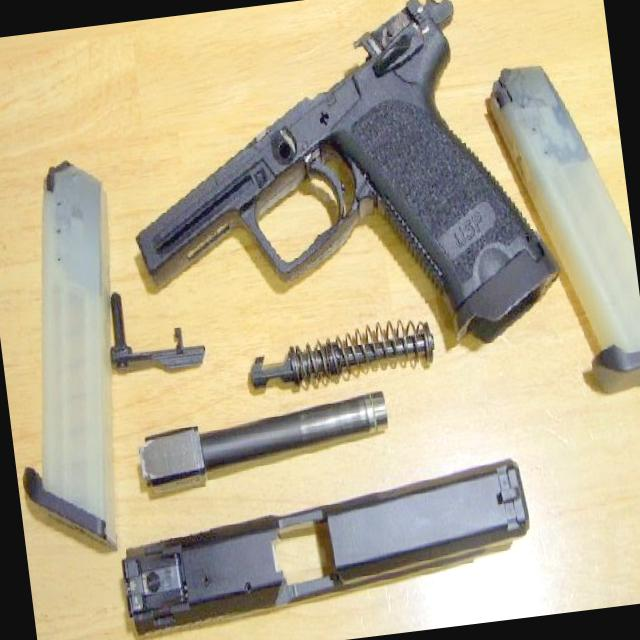handgun: (110, 0, 577, 392)
